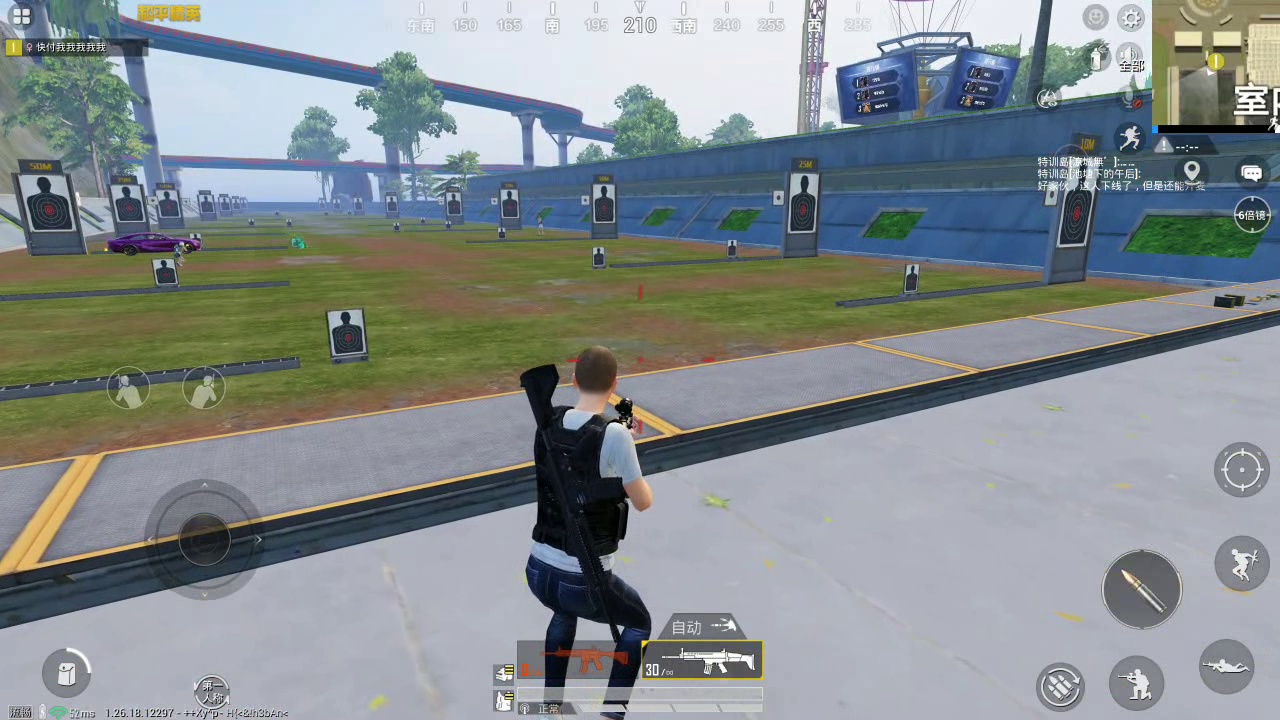enemy: (170, 240, 188, 268)
